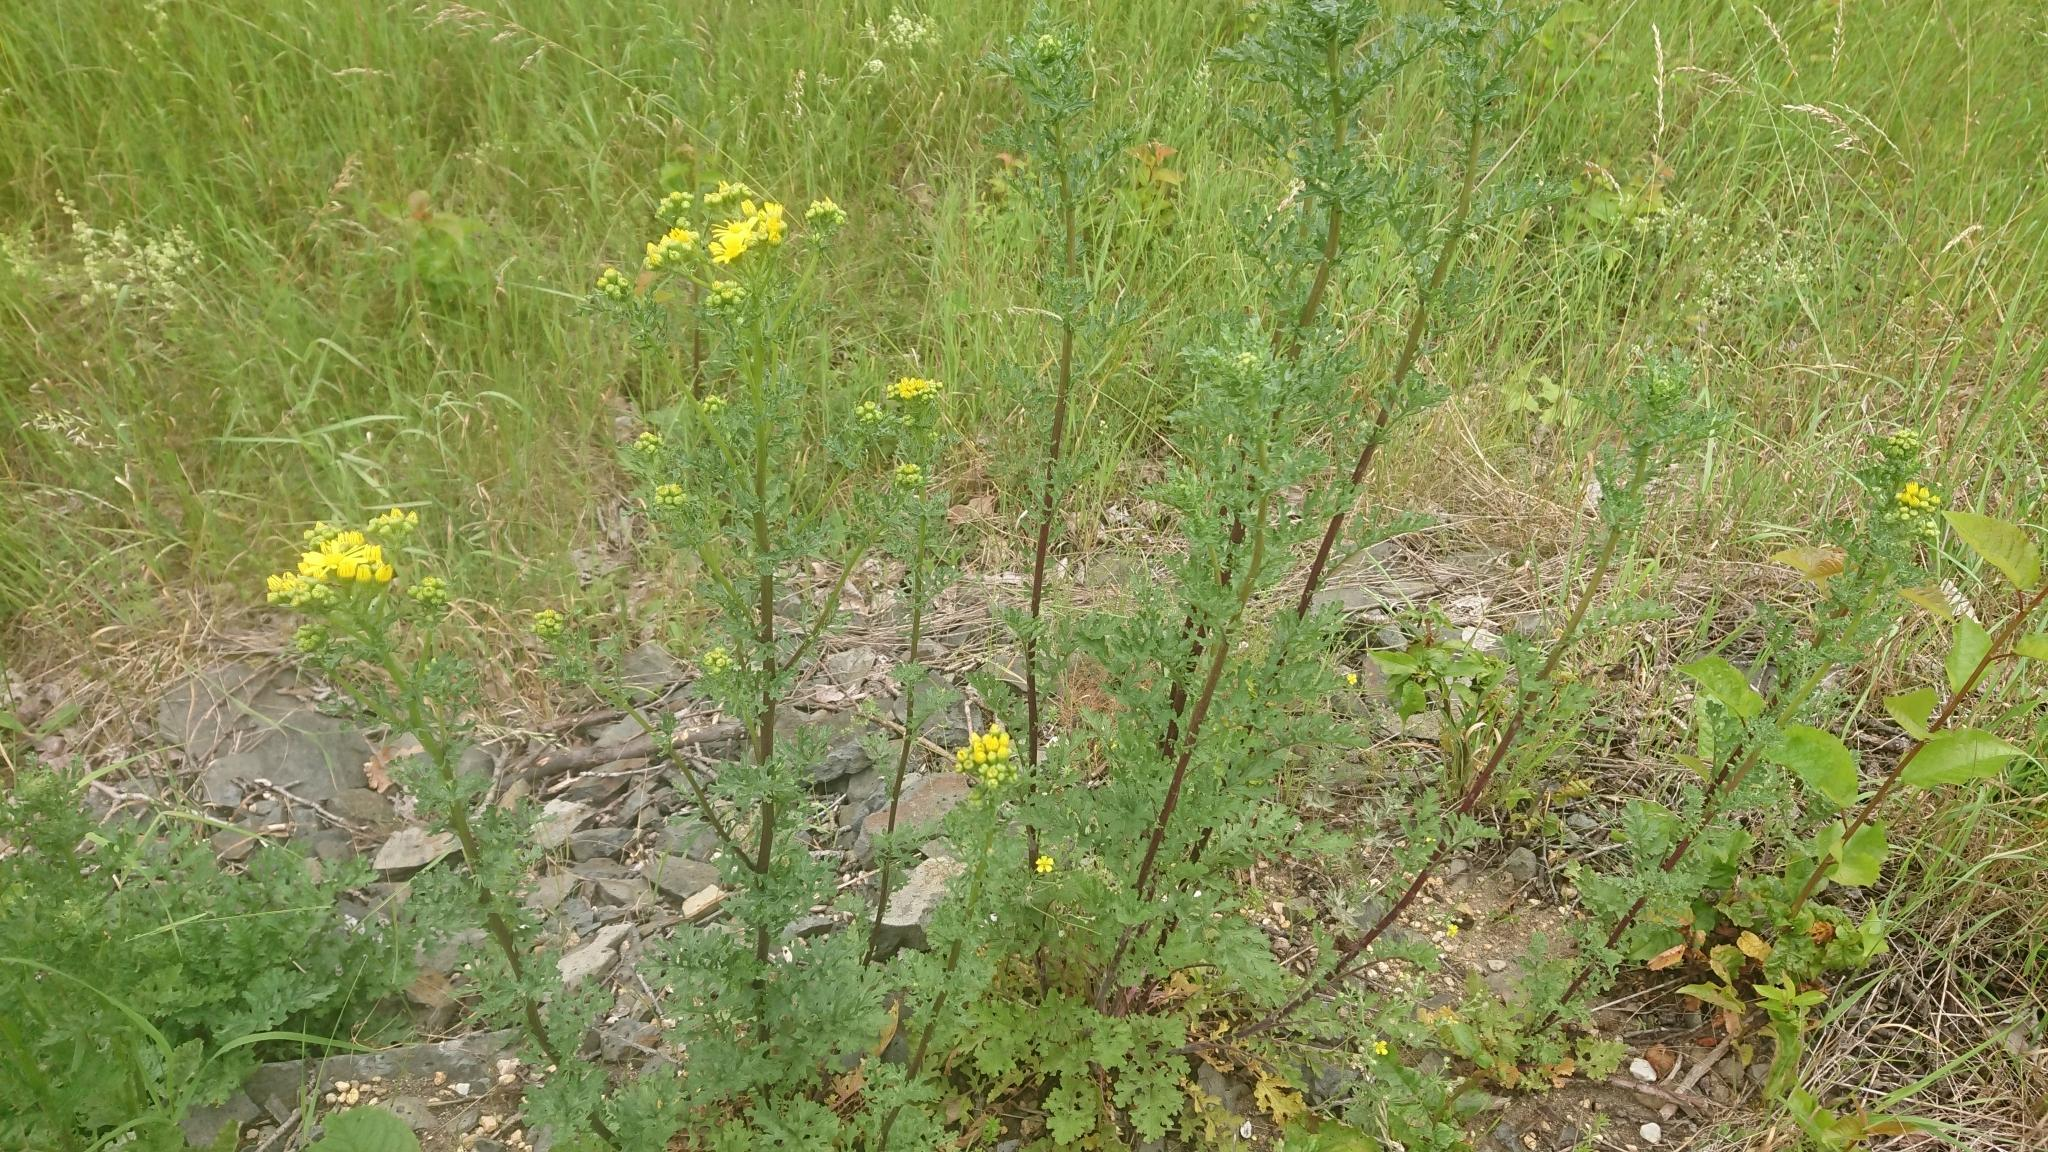Jacobaea vulgaris: (913, 7, 1197, 1115), (235, 481, 677, 1152), (1452, 0, 1687, 1129), (582, 145, 848, 1120), (1193, 0, 1440, 904), (1754, 381, 2048, 945), (937, 713, 1103, 972)
